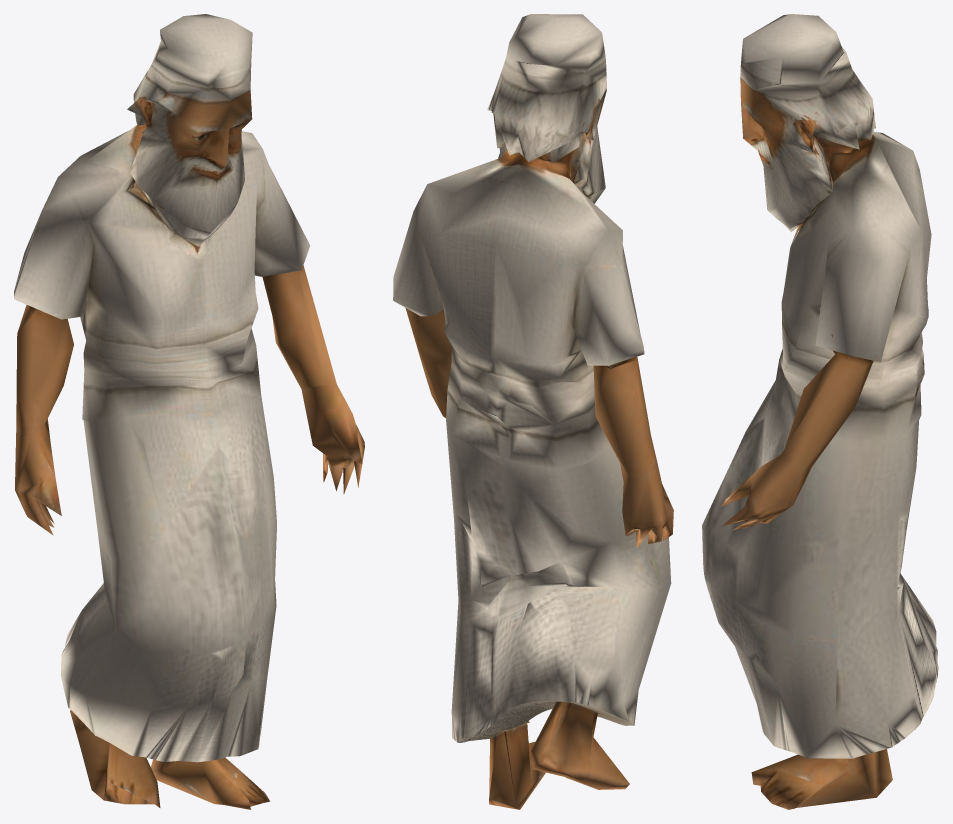
File: kohen_game.glb
The picture shows the model from 3 angles, left to right: view 1: azimuth 30°, elevation 25°; view 2: azimuth 150°, elevation 25°; view 3: azimuth 270°, elevation 25°; orthographic projection. The views are drawn at different scales.
Parts seen in each view (by area): view 1: tripo_node_a5a10325-17f9-4195-a7c8-6b85f2c63514; view 2: tripo_node_a5a10325-17f9-4195-a7c8-6b85f2c63514; view 3: tripo_node_a5a10325-17f9-4195-a7c8-6b85f2c63514.
Part boxes in pixels (x1=…): tripo_node_a5a10325-17f9-4195-a7c8-6b85f2c63514: x1=14, y1=14, x2=364, y2=809; tripo_node_a5a10325-17f9-4195-a7c8-6b85f2c63514: x1=393, y1=14, x2=673, y2=809; tripo_node_a5a10325-17f9-4195-a7c8-6b85f2c63514: x1=702, y1=14, x2=938, y2=809.
Size of the model in its own units: 0.3668 by 0.952 by 0.2679.
Materials: 1 (1 with a texture image).
